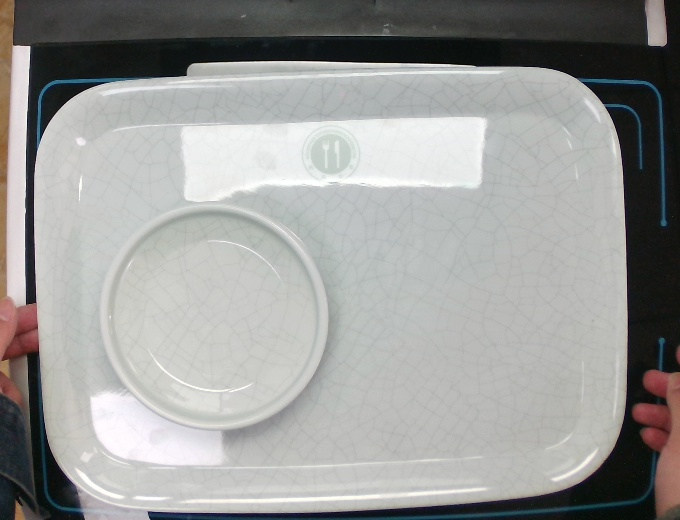JYsf-Xiao_Yuan_Pan: (97, 199, 331, 433)
